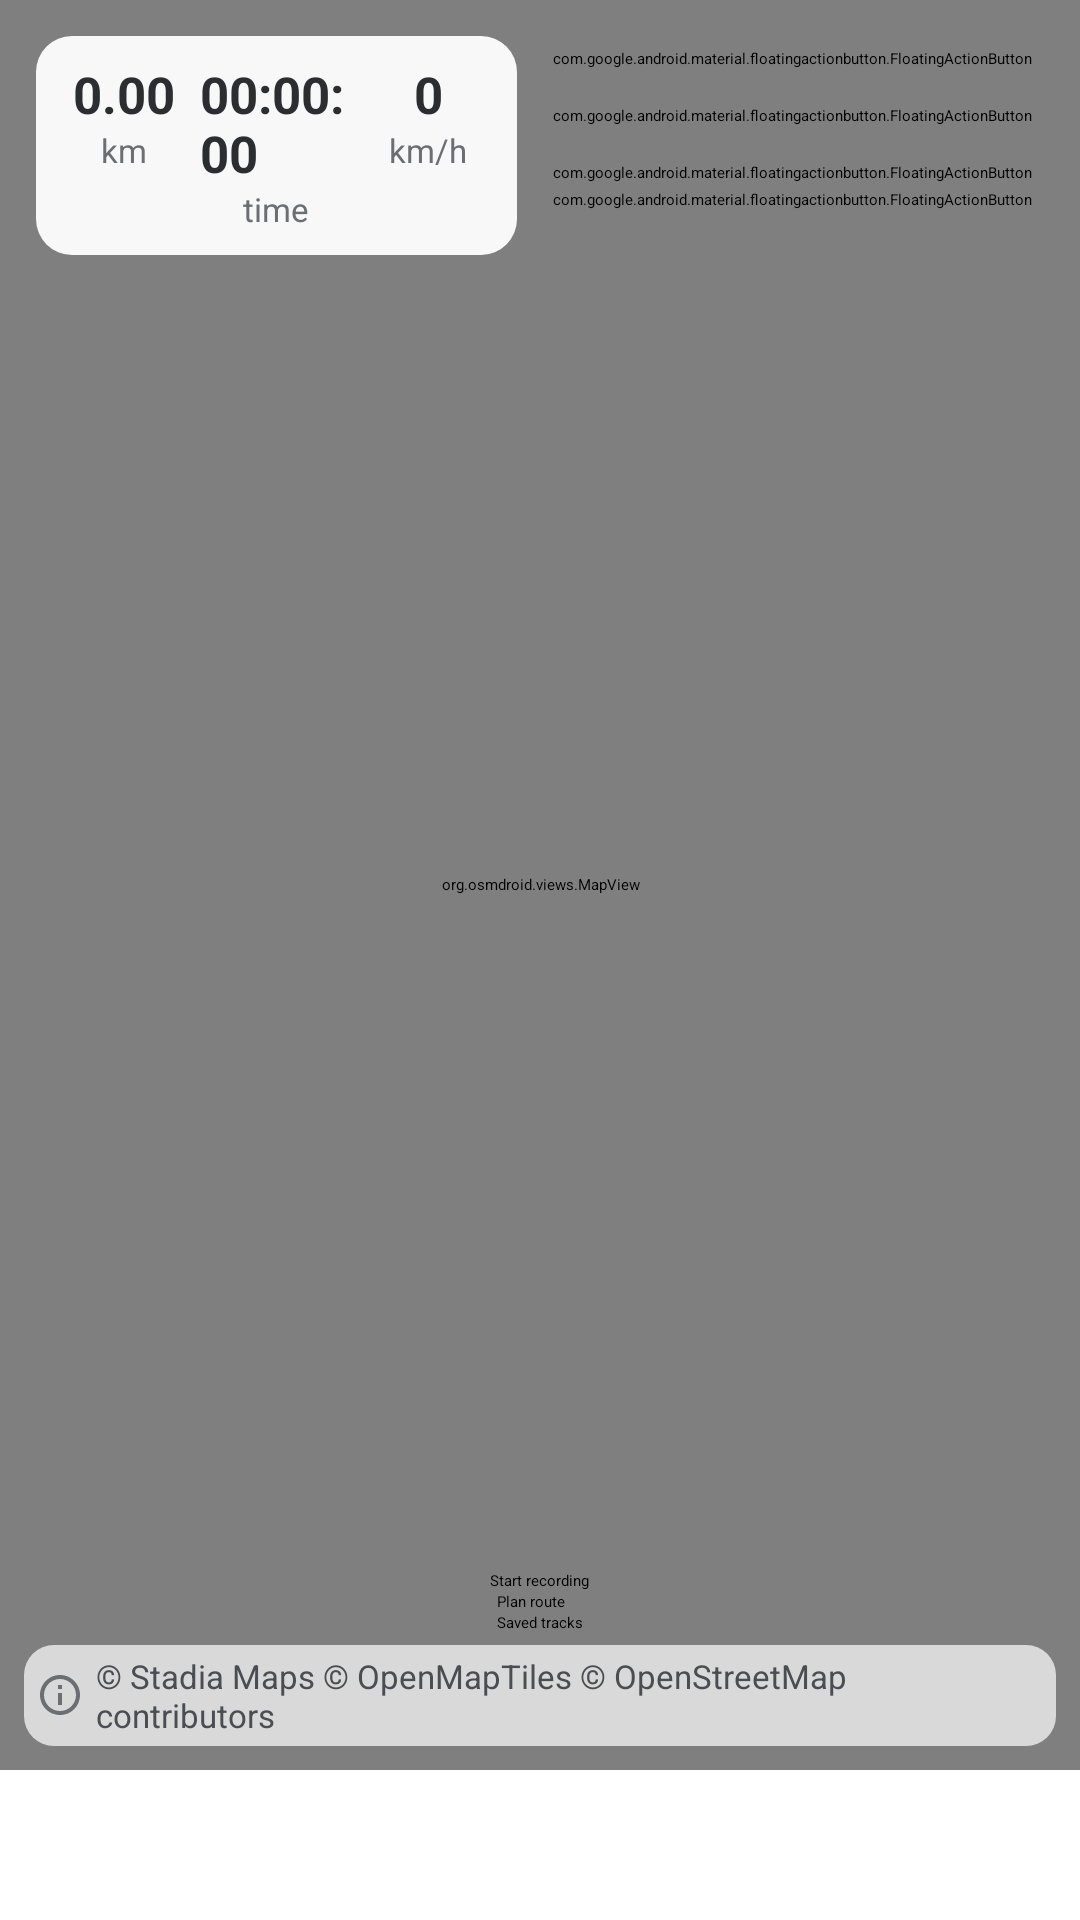

Where to tap for icons on this 1080 x 1920 app screen, as (x=x, y=y):
Map credits: (x=60, y=1695)
